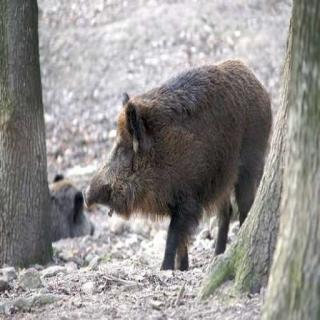Pig: (52, 47, 279, 277)
